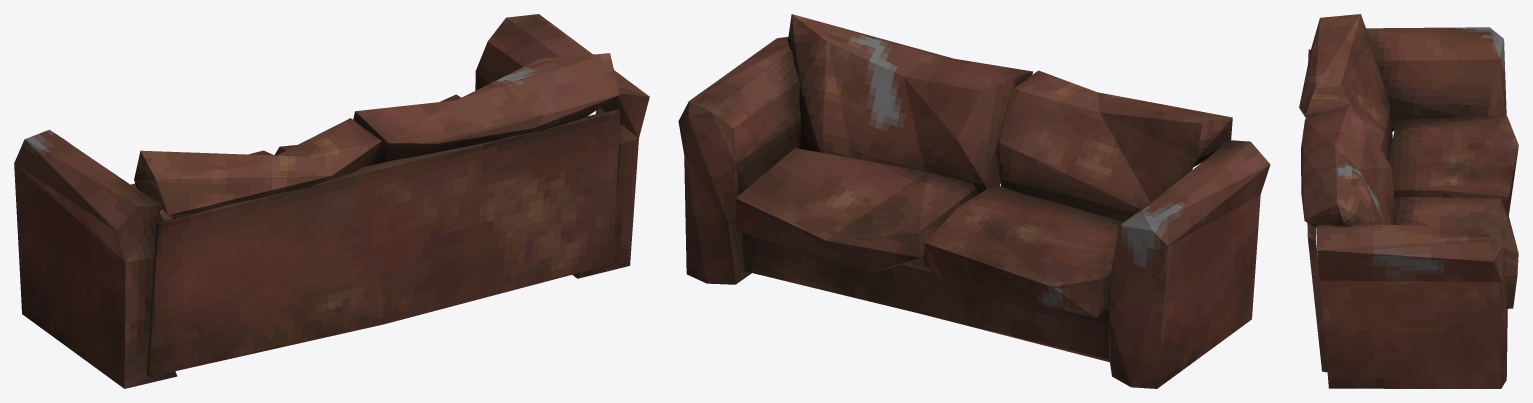
File: item_halloween_couch.glb
3 renders of one model, left to right at view 1: azimuth 30°, elevation 25°; view 2: azimuth 150°, elevation 25°; view 3: azimuth 270°, elevation 25°, orthographic. The views are drawn at different scales.
Visible parts, largest first — view 1: couch; view 2: couch; view 3: couch.
Boxes of the visible parts, box(x1,y1,x2,y2) form: couch: box(14, 14, 649, 388); couch: box(678, 14, 1270, 388); couch: box(1299, 14, 1518, 388).
Bounding box in the file's own units: 1.6 × 0.623 × 0.6785.
1 material, 1 textured.
